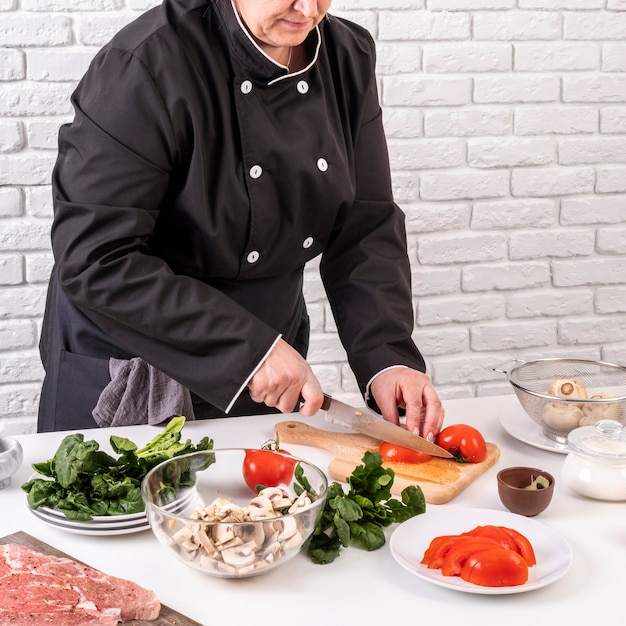knife: (321, 394, 461, 462)
